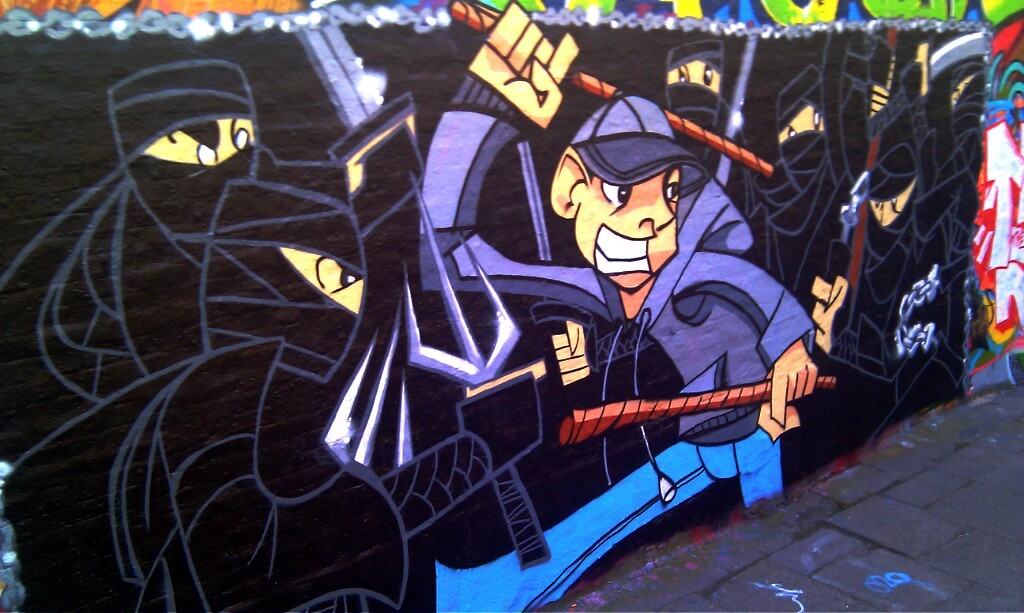baston_e: (475, 3, 764, 179), (581, 371, 833, 453)
baston_v: (548, 405, 595, 455), (443, 0, 490, 32), (760, 156, 784, 184), (823, 368, 845, 395)
